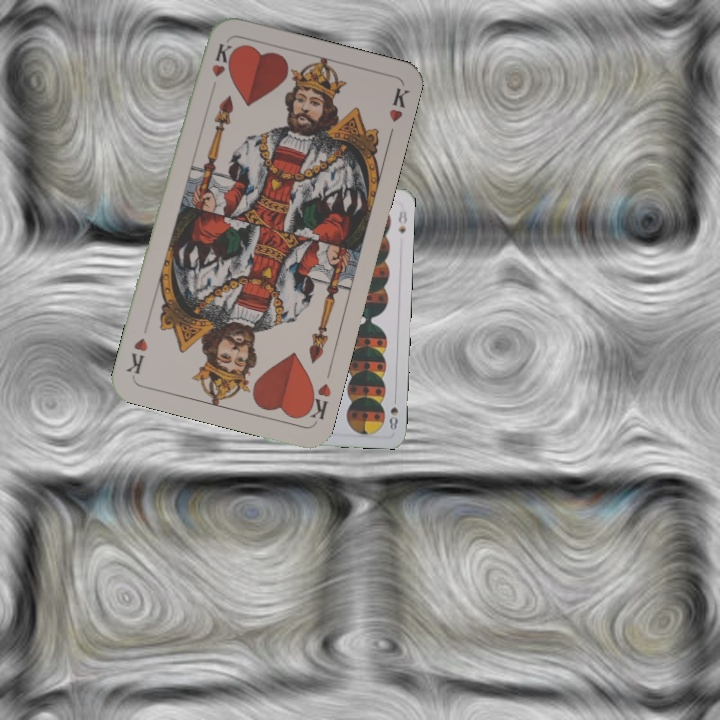HK: (300, 379, 334, 425), (207, 39, 233, 79)
S8: (385, 392, 401, 433)
